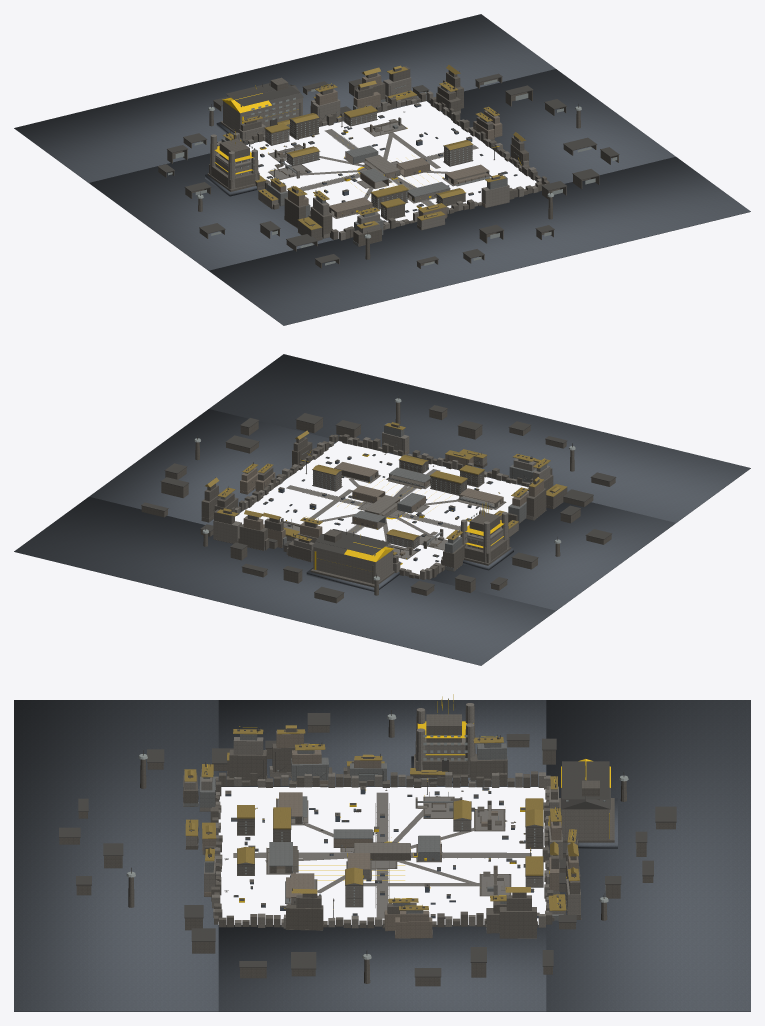
File: kuko-lod0.glb
The picture shows the model from 3 angles, top to bottom: view 1: azimuth 30°, elevation 25°; view 2: azimuth 150°, elevation 25°; view 3: azimuth 270°, elevation 25°; orthographic projection. The views are drawn at different scales.
Visible parts, largest first — view 1: HB_kuko_LOD0_terrain, HB_kuko_LOD0_wall_alt, HB_kuko_LOD0_wall, HB_kuko_LOD0_trim, HB_kuko_LOD0_roof, HB_kuko_LOD0_wall_warm, HB_kuko_LOD0_road, HB_kuko_LOD0_wall_cool, HB_kuko_LOD0_wall_weathered, HB_kuko_LOD0_LANDMARK_0_wall, HB_kuko_LOD0_glass, HB_kuko_LOD0_LANDMARK_0_trim (+2 smaller); view 2: HB_kuko_LOD0_terrain, HB_kuko_LOD0_wall_alt, HB_kuko_LOD0_trim, HB_kuko_LOD0_wall, HB_kuko_LOD0_wall_warm, HB_kuko_LOD0_roof, HB_kuko_LOD0_wall_cool, HB_kuko_LOD0_road, HB_kuko_LOD0_LANDMARK_0_wall, HB_kuko_LOD0_wall_weathered, HB_kuko_LOD0_LANDMARK_1_wall_alt, HB_kuko_LOD0_LANDMARK_0_trim (+2 smaller); view 3: HB_kuko_LOD0_terrain, HB_kuko_LOD0_wall_alt, HB_kuko_LOD0_trim, HB_kuko_LOD0_wall, HB_kuko_LOD0_roof, HB_kuko_LOD0_road, HB_kuko_LOD0_wall_warm, HB_kuko_LOD0_wall_cool, HB_kuko_LOD0_wall_weathered, HB_kuko_LOD0_LANDMARK_0_trim, HB_kuko_LOD0_LANDMARK_1_wall, HB_kuko_LOD0_LANDMARK_1_wall_alt (+5 smaller).
Boxes of the visible parts, <box> form: HB_kuko_LOD0_terrain: <box>14,14,750,325</box>; HB_kuko_LOD0_wall_alt: <box>158,66,618,268</box>; HB_kuko_LOD0_wall: <box>217,77,541,240</box>; HB_kuko_LOD0_trim: <box>157,71,619,263</box>; HB_kuko_LOD0_roof: <box>223,65,525,230</box>; HB_kuko_LOD0_wall_warm: <box>271,73,502,218</box>; HB_kuko_LOD0_road: <box>268,112,494,220</box>; HB_kuko_LOD0_wall_cool: <box>221,85,507,246</box>; HB_kuko_LOD0_wall_weathered: <box>244,70,528,246</box>; HB_kuko_LOD0_LANDMARK_0_wall: <box>223,98,302,132</box>; HB_kuko_LOD0_glass: <box>168,79,617,265</box>; HB_kuko_LOD0_LANDMARK_0_trim: <box>226,80,303,126</box>; HB_kuko_LOD0_terrain: <box>14,354,750,665</box>; HB_kuko_LOD0_wall_alt: <box>141,402,615,603</box>; HB_kuko_LOD0_trim: <box>141,395,616,598</box>; HB_kuko_LOD0_wall: <box>213,432,550,579</box>; HB_kuko_LOD0_wall_warm: <box>240,446,543,555</box>; HB_kuko_LOD0_roof: <box>205,422,567,554</box>; HB_kuko_LOD0_wall_cool: <box>220,423,546,571</box>; HB_kuko_LOD0_road: <box>283,454,506,558</box>; HB_kuko_LOD0_LANDMARK_0_wall: <box>313,547,392,583</box>; HB_kuko_LOD0_wall_weathered: <box>207,441,552,556</box>; HB_kuko_LOD0_LANDMARK_1_wall_alt: <box>464,512,511,565</box>; HB_kuko_LOD0_LANDMARK_0_trim: <box>312,529,389,555</box>; HB_kuko_LOD0_terrain: <box>14,700,750,1011</box>; HB_kuko_LOD0_wall_alt: <box>59,719,675,986</box>; HB_kuko_LOD0_trim: <box>59,710,676,977</box>; HB_kuko_LOD0_wall: <box>184,737,580,932</box>; HB_kuko_LOD0_roof: <box>184,725,579,910</box>; HB_kuko_LOD0_road: <box>225,790,531,918</box>; HB_kuko_LOD0_wall_warm: <box>202,730,578,938</box>; HB_kuko_LOD0_wall_cool: <box>183,734,563,920</box>; HB_kuko_LOD0_wall_weathered: <box>183,767,557,929</box>; HB_kuko_LOD0_LANDMARK_0_trim: <box>556,761,610,809</box>; HB_kuko_LOD0_LANDMARK_1_wall: <box>415,703,475,774</box>; HB_kuko_LOD0_LANDMARK_1_wall_alt: <box>414,714,470,777</box>.
Size of the model in its own units: 756 by 88.36 by 756.
Materials: 13 (12 with a texture image).
